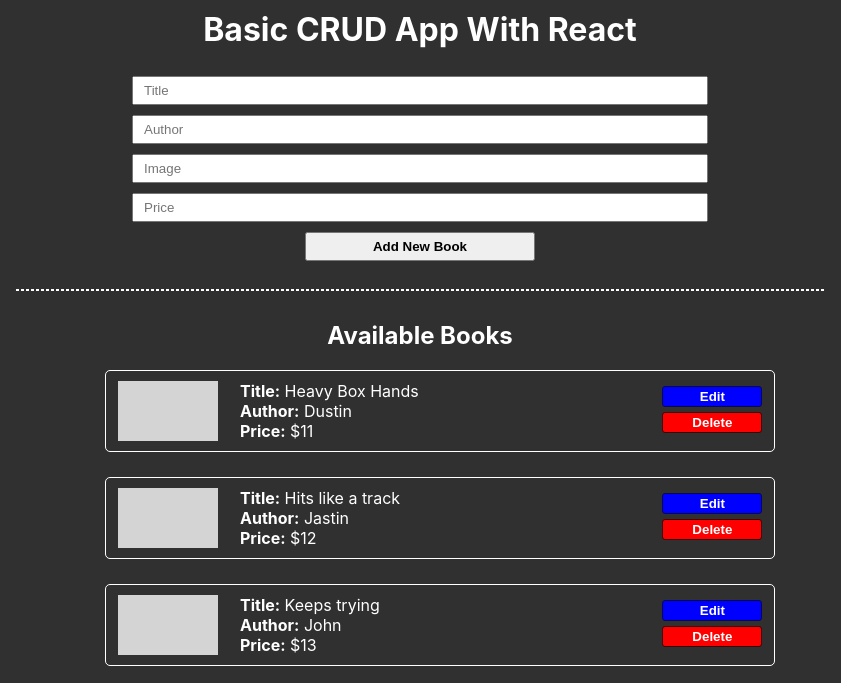
Test case: removeBook() › should delete book
The image size is (841, 683).
Expected: the list item "Title: Heavy Box Hands Author: Dustin Price: $11 Edit Delete" is shown, [105,370,775,452]
Expected: the number of list items is 3, [105,370,775,452]; [105,477,775,559]; [105,584,775,666]
Click the button with class "delete-btn" in the row of "John".
click(712, 637)  # box [662,626,762,647]
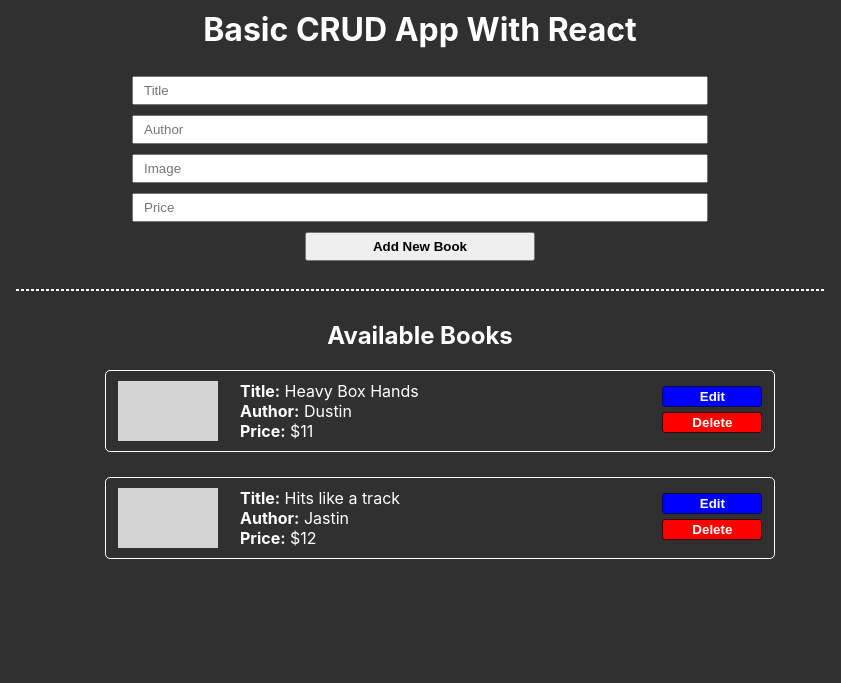
Expected: the list item "Title: Heavy Box Hands Author: Dustin Price: $11 Edit Delete" is shown, [105,370,775,452]
Expected: the number of list items is 2, [105,370,775,452]; [105,477,775,559]
